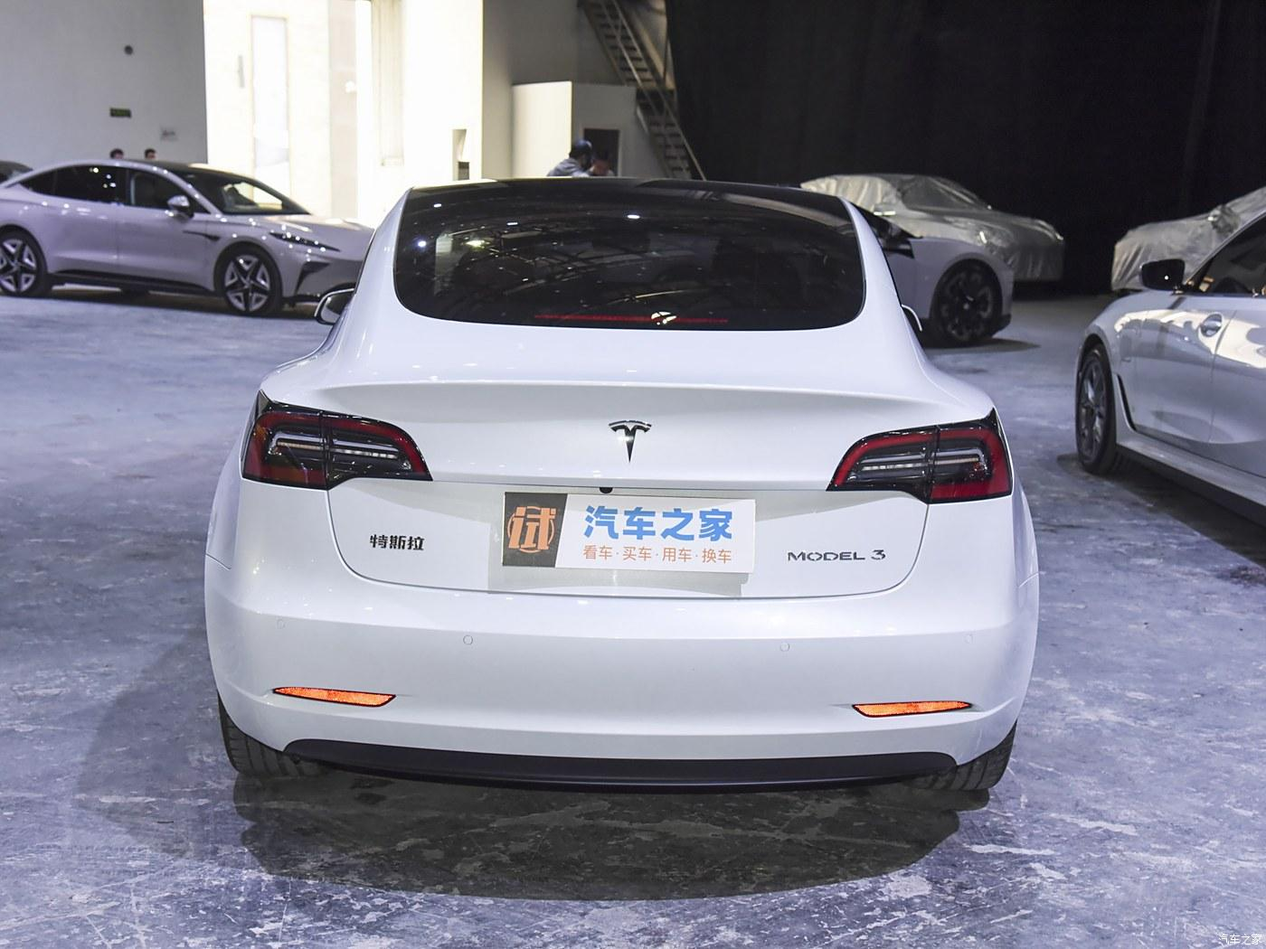Tesla: (609, 419, 651, 464)
